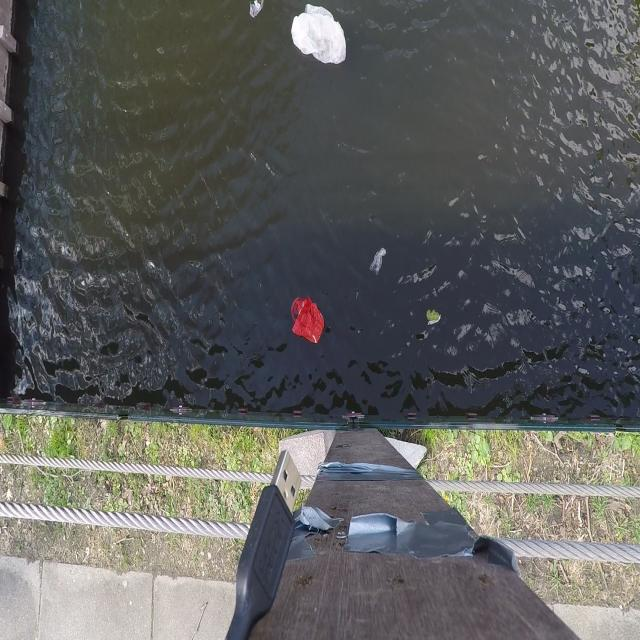Sac plastique: (284, 0, 350, 74), (281, 284, 331, 354), (368, 244, 389, 280), (246, 0, 265, 24)
